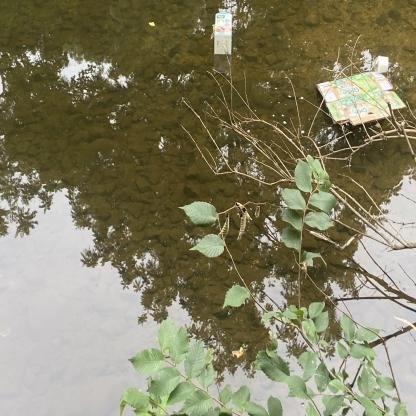trash: (314, 70, 406, 128), (210, 7, 235, 59), (377, 53, 390, 74), (372, 54, 380, 74)
